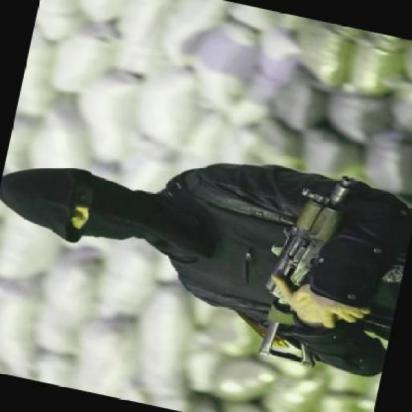Gun: (233, 158, 412, 374)
